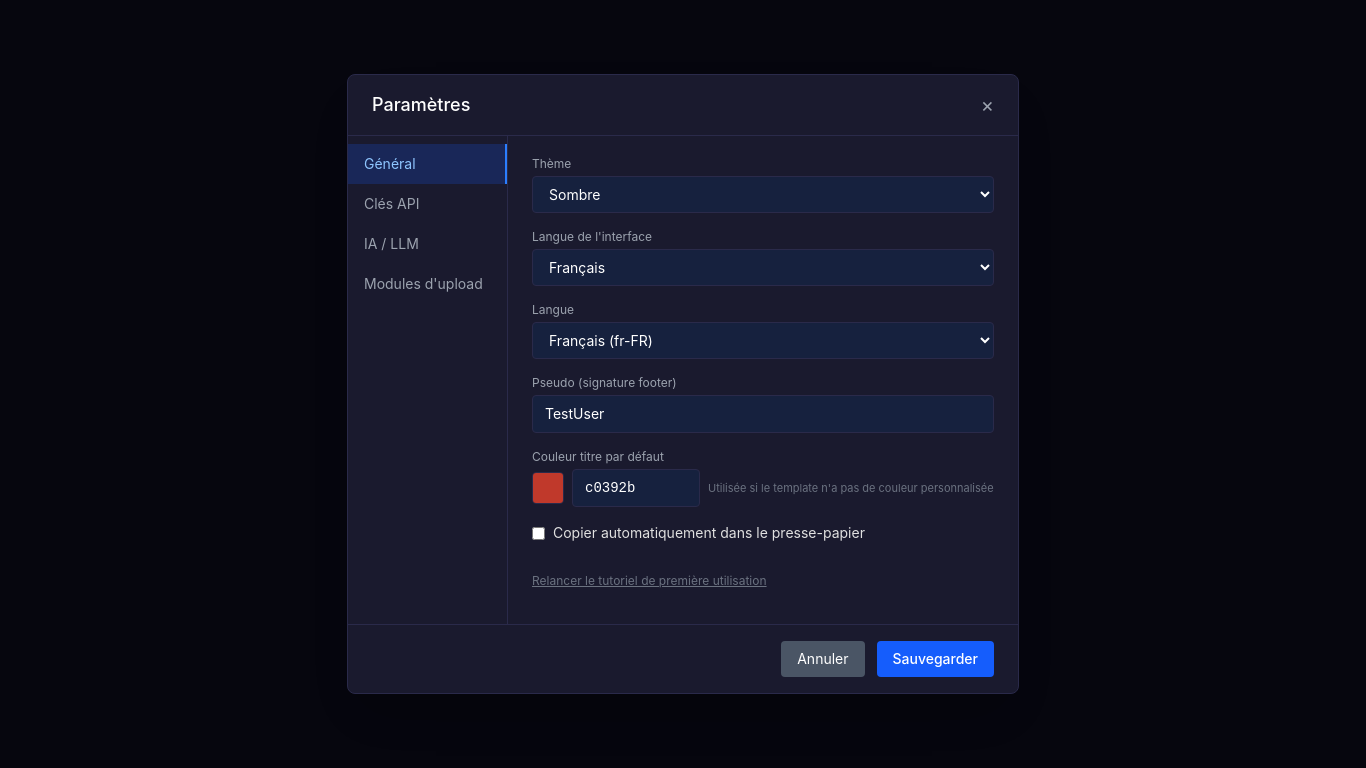
SettingsModal › shows C411 config in Modules tab
Click the button "Modules d'upload" at (428,284), box 348,264 -> 507,304
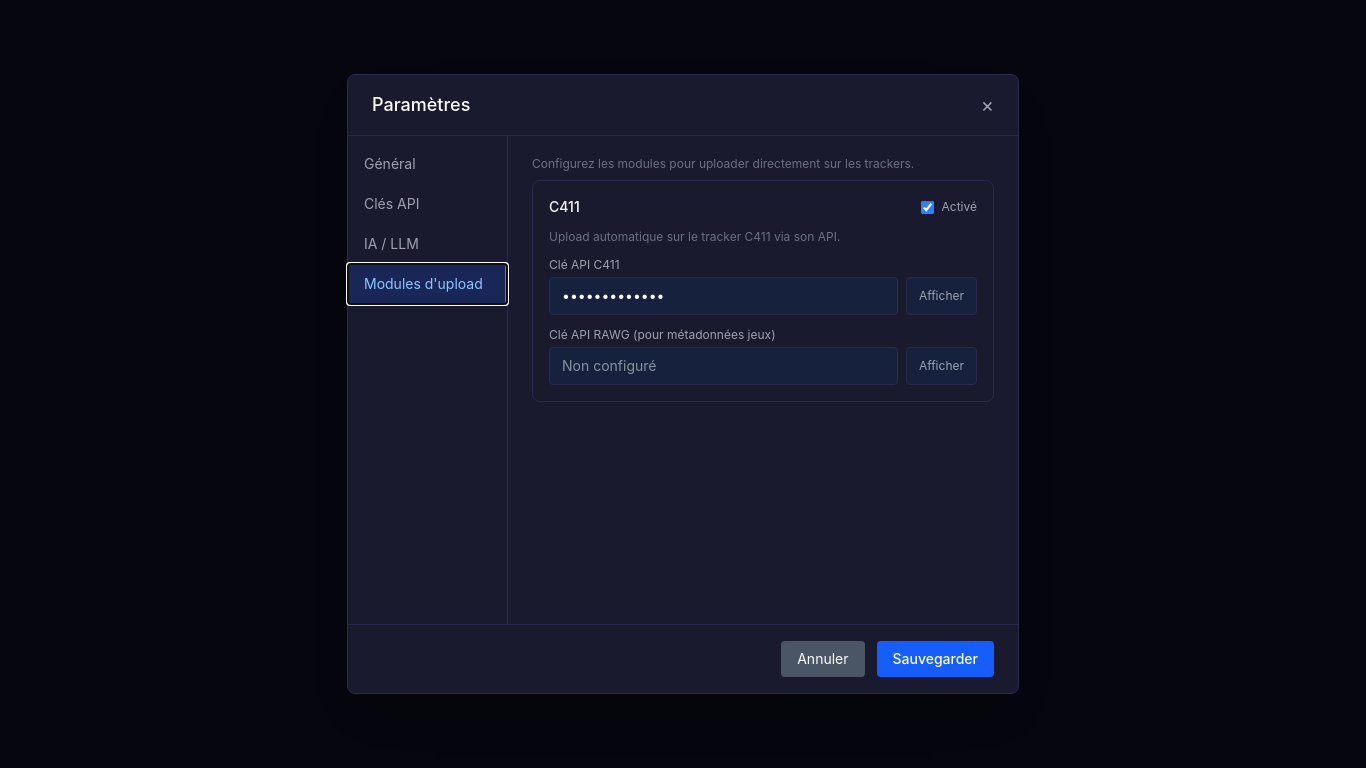
Expected: the heading "C411" is shown, 549,197 -> 580,217
